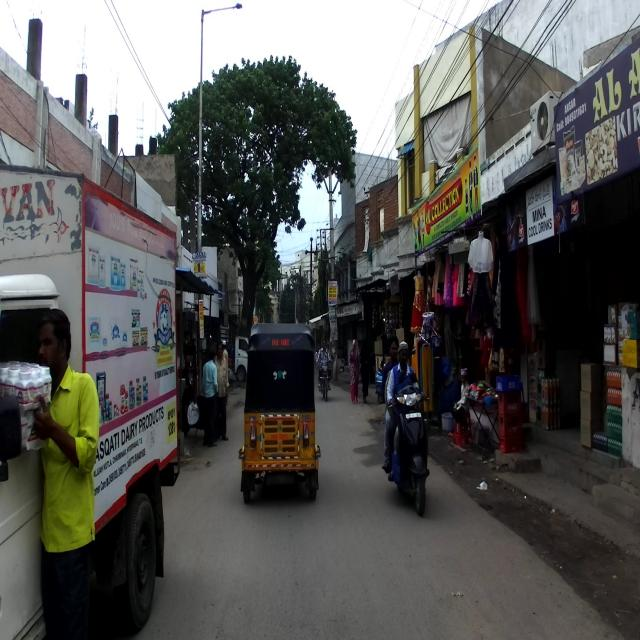autorickshaw: (238, 323, 321, 505)
scooter: (381, 368, 430, 516), (177, 359, 208, 436)
truck: (0, 163, 182, 639)
